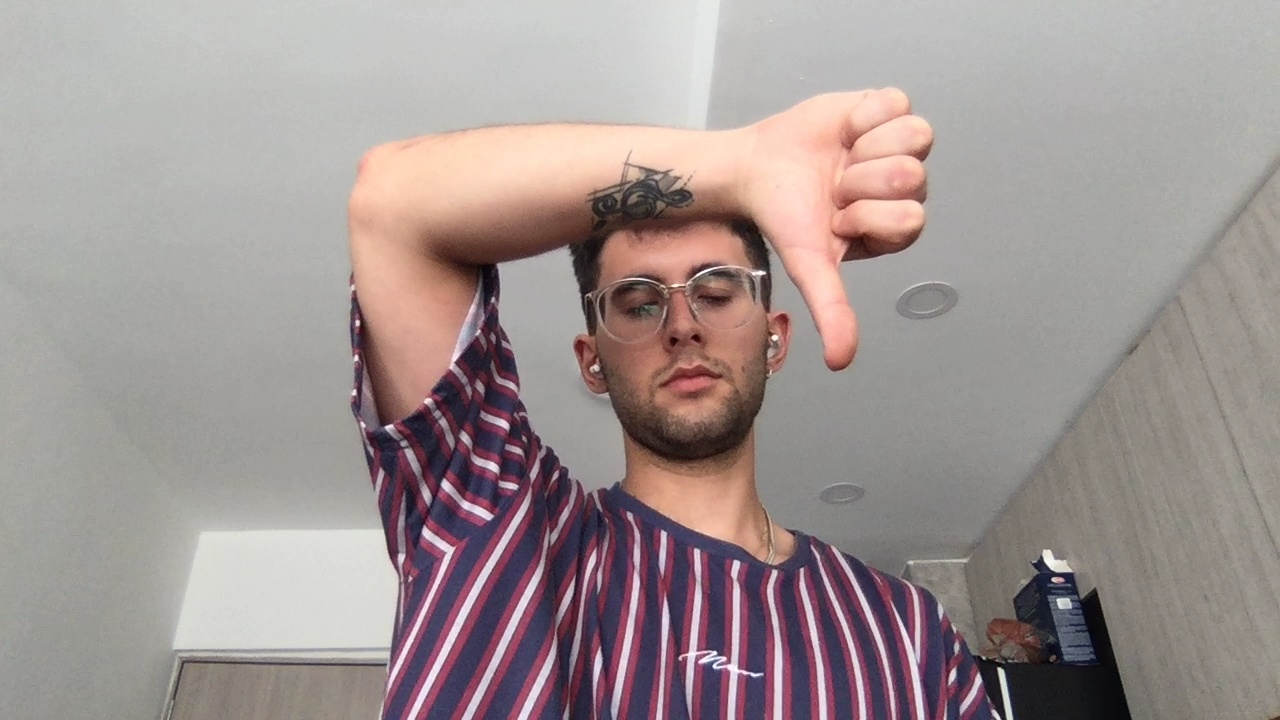bad: (771, 88, 936, 377)
